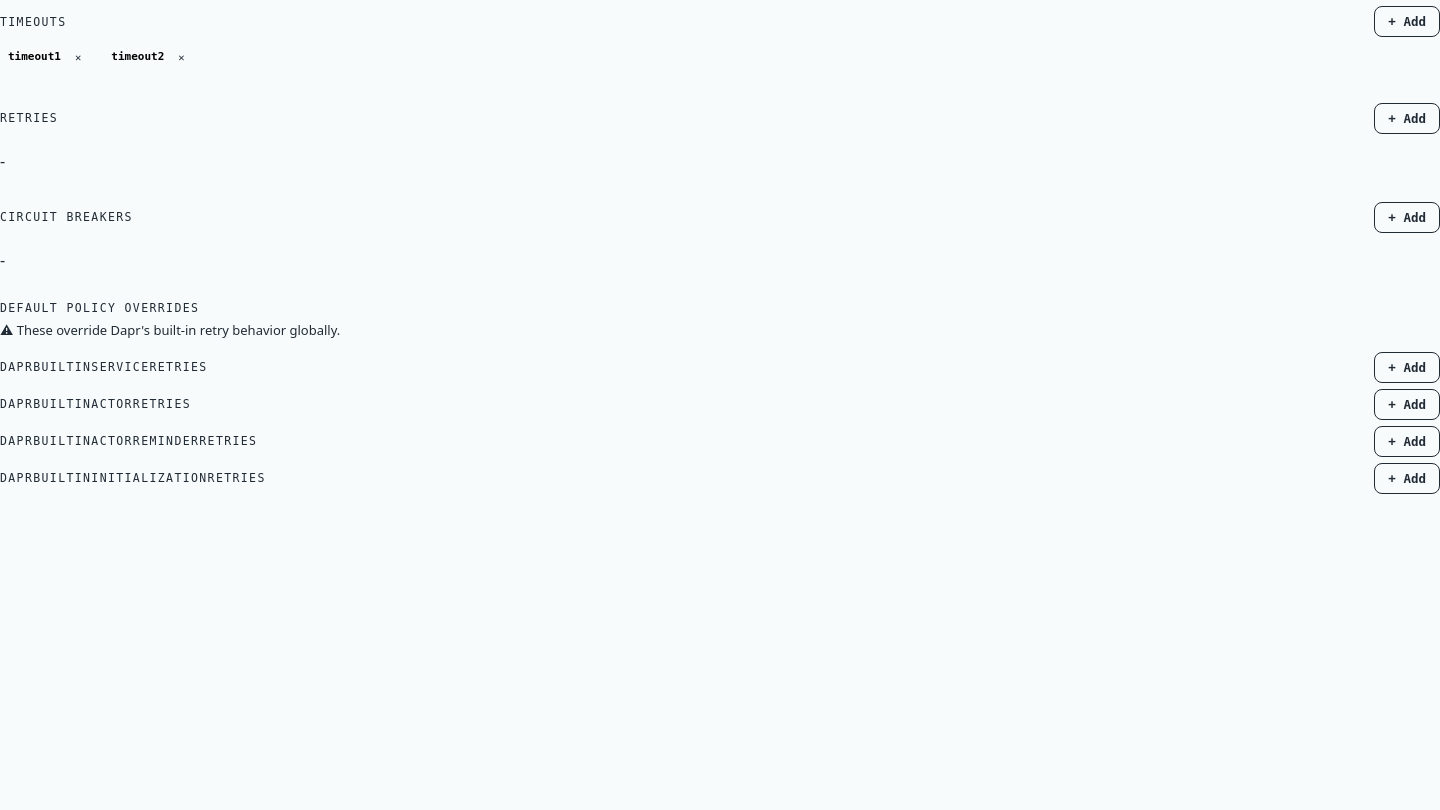
StepPolicies › blocks renaming a timeout onto another existing timeout
Click the button with aria-label "edit timeout1" at (34, 56), box [8,50,61,63]
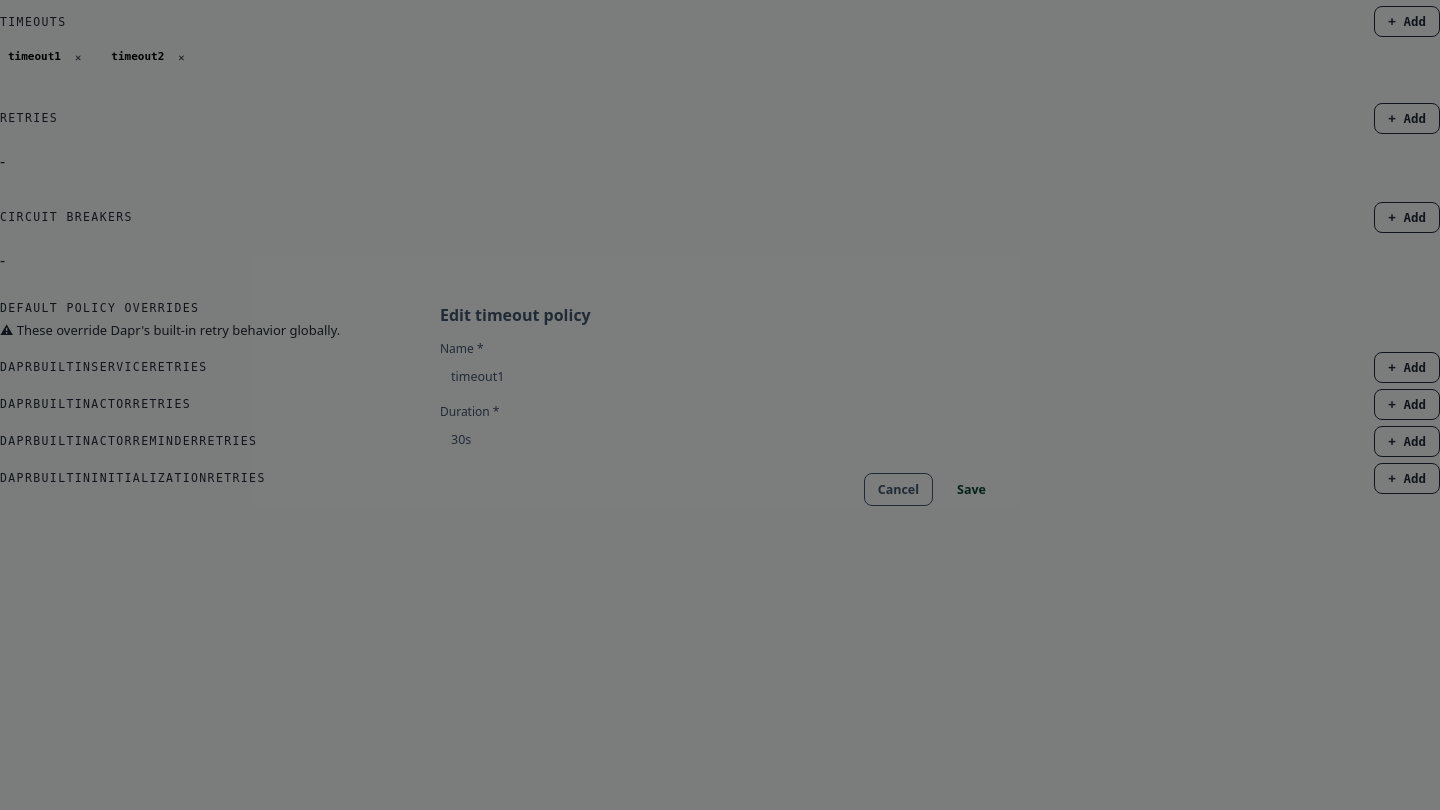
Replace the text in the field named "timeout name" with "timeout2" at (731, 376), box [440,361,1022,392]
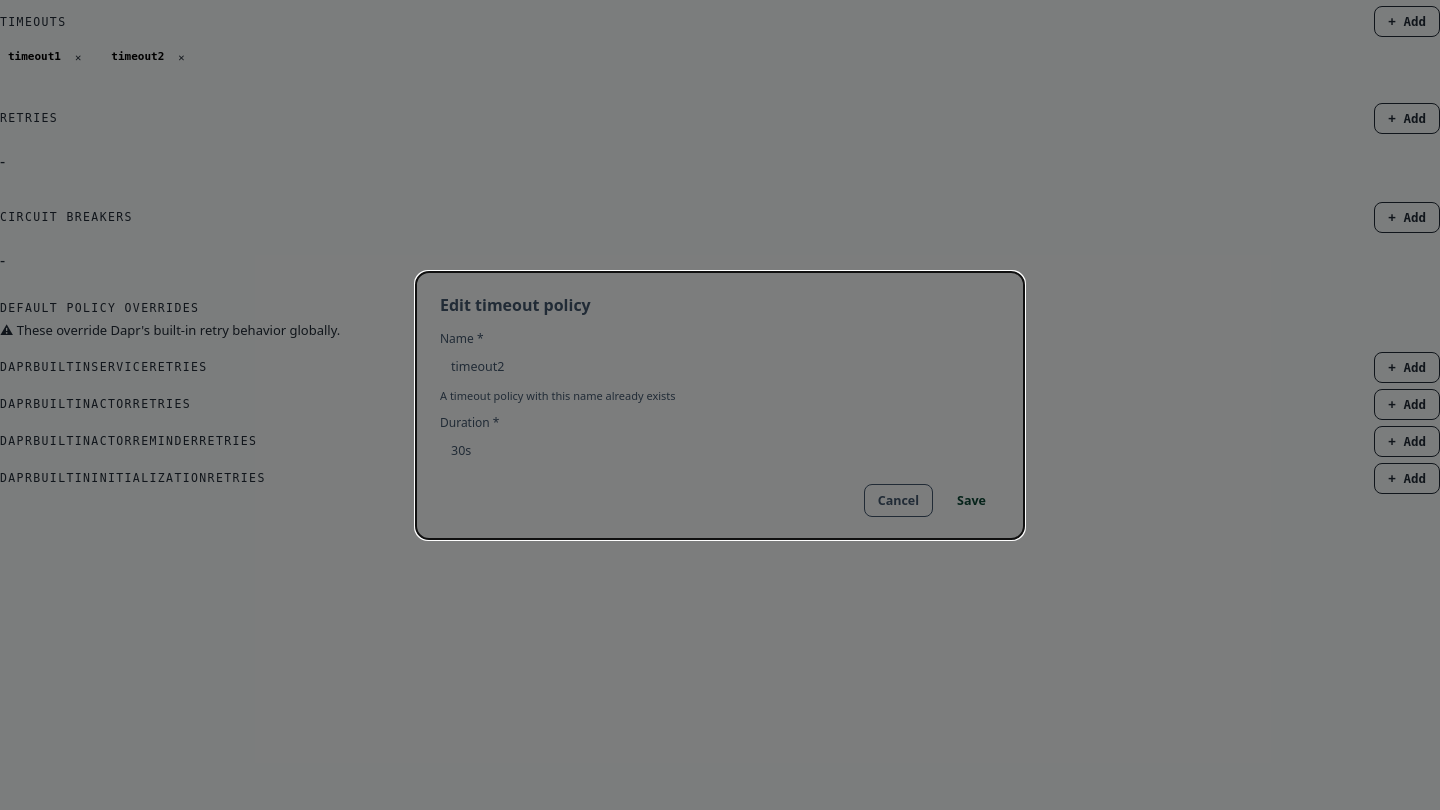
Expected: the text "A timeout policy with this name already exists" is shown, [440,388,676,402]
Expected: the button "Save" is disabled, [943,484,1000,516]
